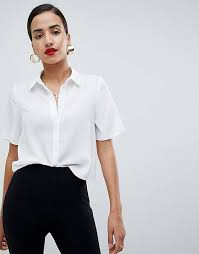F_W_pants: (1, 167, 104, 251)
F_shirt: (3, 65, 130, 183)
